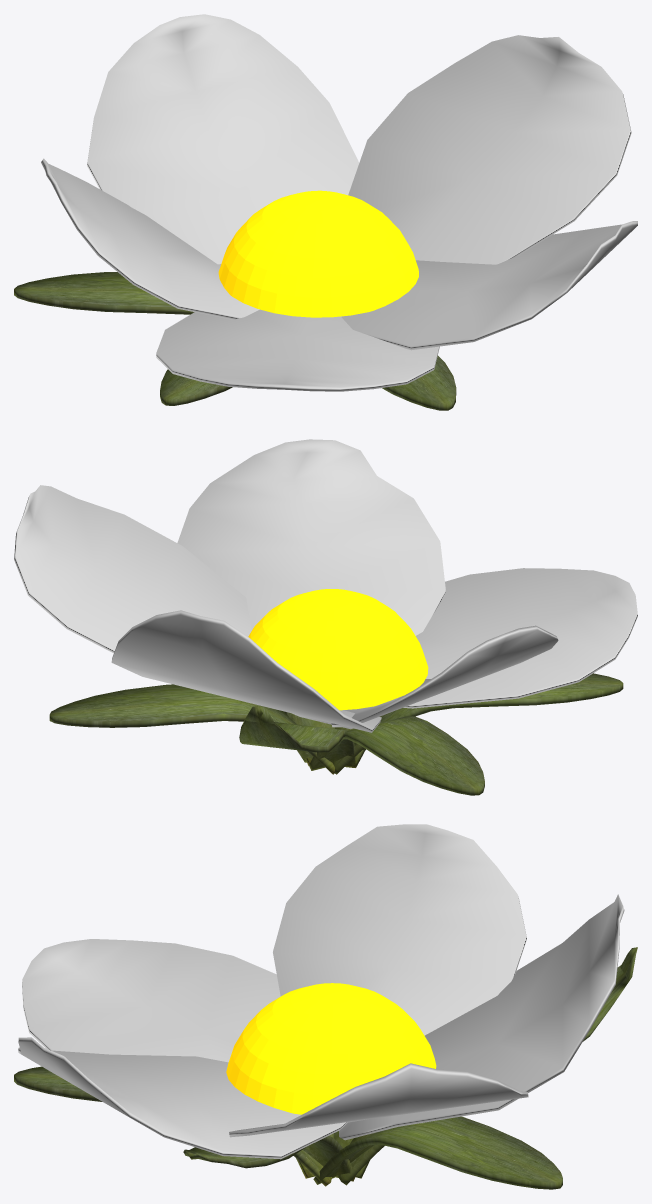
3 views of the same model, one above another, from view 1: azimuth 30°, elevation 25°; view 2: azimuth 150°, elevation 25°; view 3: azimuth 270°, elevation 25° (orthographic). The views are drawn at different scales.
Visible parts, largest first — view 1: calyx1_001.011, calyx1_001.009, Sphere.001, calyx1_001.012, calyx1_001.008, calyx1_001.010, calyx1_001.001, calyx1.001, calyx1_001.002; view 2: calyx1_001.008, calyx1_001.011, calyx1_001.012, Sphere.001, calyx1_001.009, calyx1.002, calyx1_001.001, calyx1_001.010, calyx3, calyx1_001.002; view 3: calyx1_001.010, calyx1_001.012, calyx1_001.009, Sphere.001, calyx1_001.008, calyx1.002, calyx1_001.011, calyx1.001, calyx3_001, calyx3.
Part boxes in pixels (x1,y1,x2,y2): calyx1_001.011: (348,35,631,264); calyx1_001.009: (87,14,359,264); Sphere.001: (218,190,418,317); calyx1_001.012: (156,309,439,391); calyx1_001.008: (341,221,637,350); calyx1_001.010: (41,158,259,319); calyx1_001.001: (14,272,194,314); calyx1.001: (382,355,456,410); calyx1_001.002: (160,369,232,405); calyx1_001.008: (177,439,445,635); calyx1_001.011: (14,485,251,653); calyx1_001.012: (403,568,637,708); Sphere.001: (248,589,428,710); calyx1_001.009: (111,610,381,732); calyx1.002: (49,684,334,774); calyx1_001.001: (309,716,484,795); calyx1_001.010: (331,625,558,727); calyx3: (239,706,356,767); calyx1_001.002: (333,673,623,774); calyx1_001.010: (273,824,526,1035); calyx1_001.012: (22,939,280,1062); calyx1_001.009: (339,894,624,1140); Sphere.001: (226,983,436,1114); calyx1_001.008: (18,1037,347,1159); calyx1.002: (313,1116,562,1189); calyx1_001.011: (229,1063,528,1137); calyx1.001: (14,1066,331,1186); calyx3_001: (183,1136,355,1181); calyx3: (337,947,637,1185).
Bounding box in the file's own units: 0.0905 × 0.0865 × 0.0411.
Materials: 2 (1 with a texture image).
